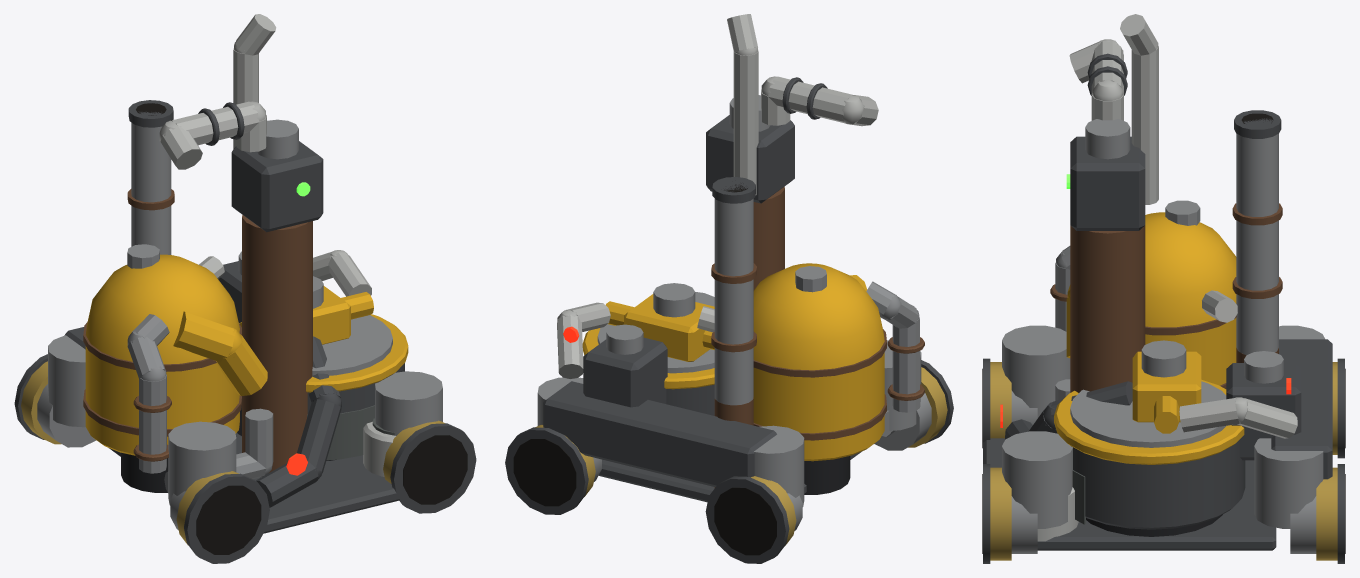
Rendered from chemical-plant.glb.
3 views of the same model, side by side, from view 1: azimuth 30°, elevation 25°; view 2: azimuth 150°, elevation 25°; view 3: azimuth 270°, elevation 25° (orthographic). The views are drawn at different scales.
Parts seen in each view (by area): view 1: body; view 2: body; view 3: body.
Part boxes in pixels (x1=…): body: x1=14, y1=14, x2=476, y2=563; body: x1=505, y1=14, x2=953, y2=563; body: x1=982, y1=14, x2=1345, y2=563.
Size of the model in its own units: 2.89 by 4.33 by 2.91.
